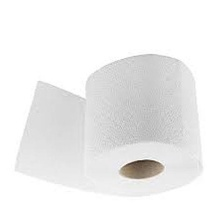tissue: (10, 48, 209, 204)
